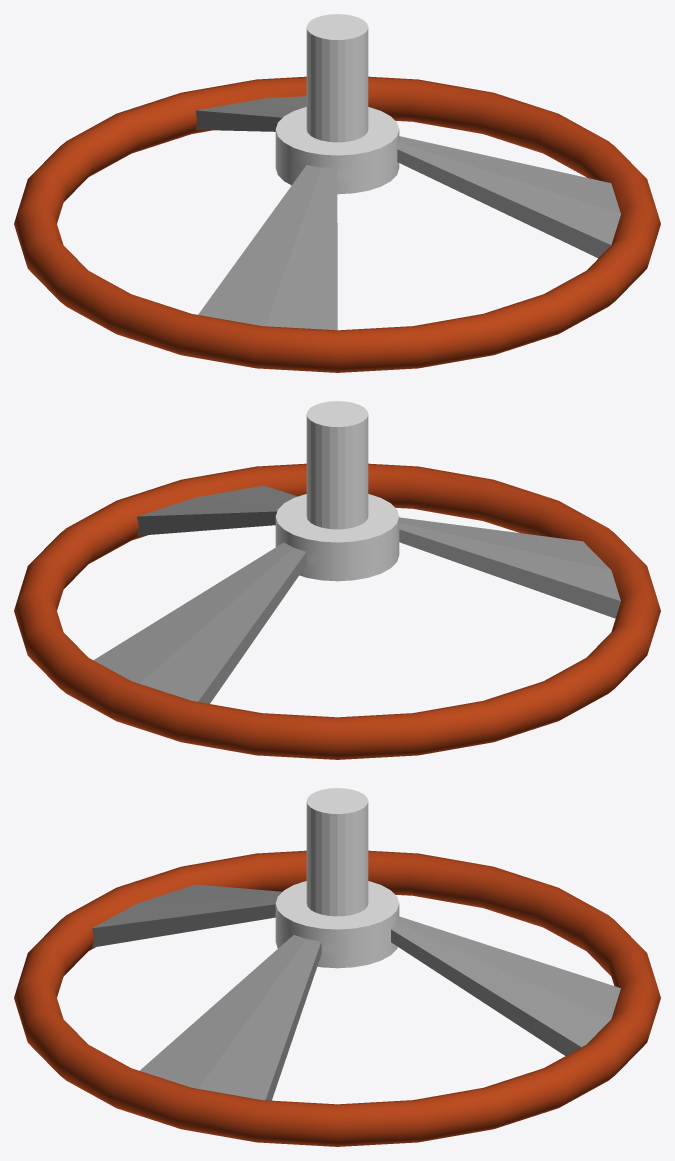
The model's file is Steering_Wheel.FBX.
3 views of the same model, one above another, from view 1: azimuth 30°, elevation 25°; view 2: azimuth 150°, elevation 25°; view 3: azimuth 270°, elevation 25° (orthographic).
Visible parts, largest first — view 1: Torus001; view 2: Torus001; view 3: Torus001.
Boxes of the visible parts, bbox=[...] form: Torus001: bbox=[14, 14, 660, 372]; Torus001: bbox=[14, 401, 660, 759]; Torus001: bbox=[14, 788, 660, 1146].
Bounding box in the file's own units: 99.04 × 36.53 × 99.04.
